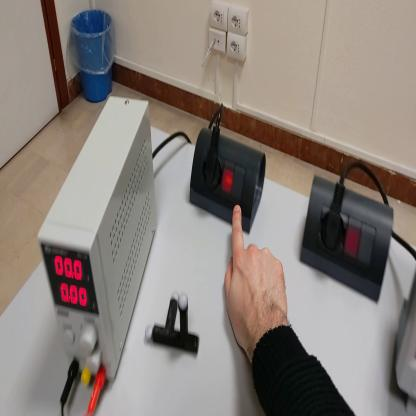hand: (223, 204, 292, 356)
oscilloscope: (395, 269, 416, 401)
power supply: (39, 91, 163, 385)
socket: (302, 173, 397, 308), (190, 130, 268, 239)
